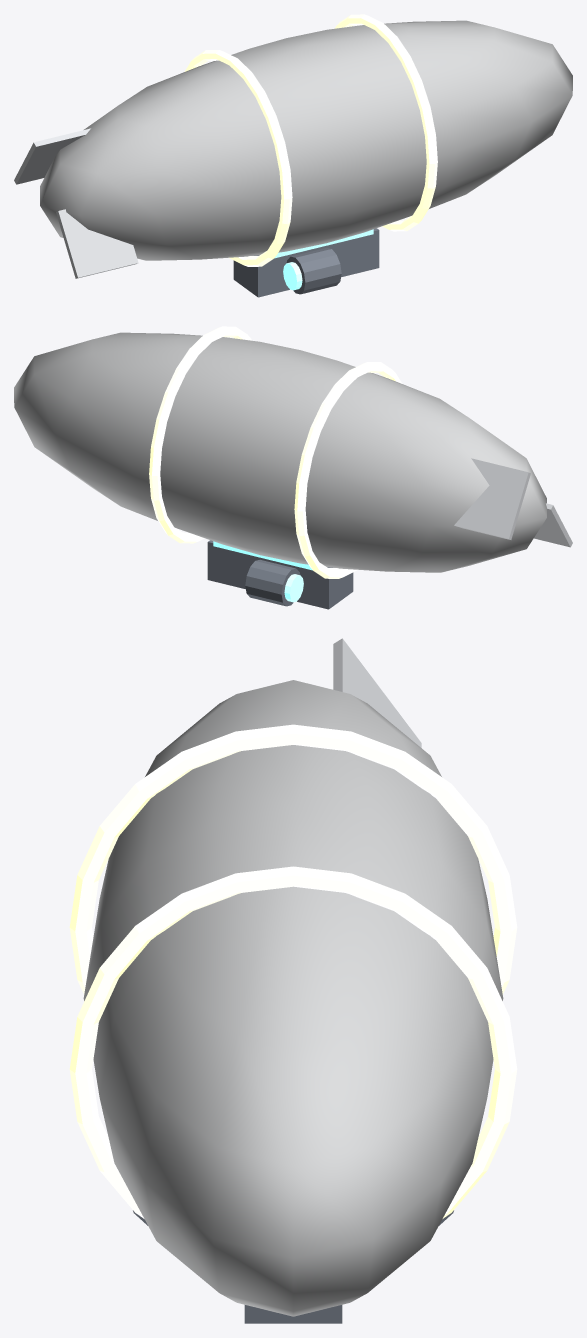
Rendered from airship.glb.
The picture shows the model from 3 angles, top to bottom: view 1: azimuth 30°, elevation 25°; view 2: azimuth 150°, elevation 25°; view 3: azimuth 270°, elevation 25°; orthographic projection. The views are drawn at different scales.
Parts seen in each view (by area): view 1: Sphere, Torus.001, Torus, Cube, Cube.002, Cylinder, Cube.003, Cylinder.001, Cube.001; view 2: Sphere, Cube.003, Torus.001, Torus, Cube, Cylinder.002, Cube.002, Cylinder.003, Cube.001; view 3: Sphere, Torus, Torus.001, Cube.003, Cube.
Boxes of the visible parts, x1,y1,x2,y2 form: Sphere: (40, 20, 572, 260); Torus.001: (184, 50, 292, 266); Torus: (335, 14, 437, 231); Cube: (233, 228, 379, 297); Cube.002: (56, 209, 138, 278); Cylinder: (286, 247, 341, 294); Cube.003: (14, 128, 90, 184); Cylinder.001: (283, 262, 302, 290); Cube.001: (274, 229, 373, 258); Sphere: (14, 332, 546, 572); Cube.003: (454, 458, 530, 539); Torus.001: (294, 362, 402, 578); Torus: (149, 326, 251, 543); Cube: (207, 540, 353, 609); Cylinder.002: (245, 559, 300, 606); Cube.002: (534, 503, 572, 547); Cylinder.003: (284, 574, 303, 602); Cube.001: (213, 541, 312, 570); Sphere: (83, 680, 503, 1316); Torus: (69, 866, 517, 1218); Torus.001: (69, 724, 517, 994); Cube.003: (333, 638, 421, 747); Cube: (244, 1305, 342, 1323).
Bounding box in the file's own units: 4.4 × 1.85 × 1.6.
